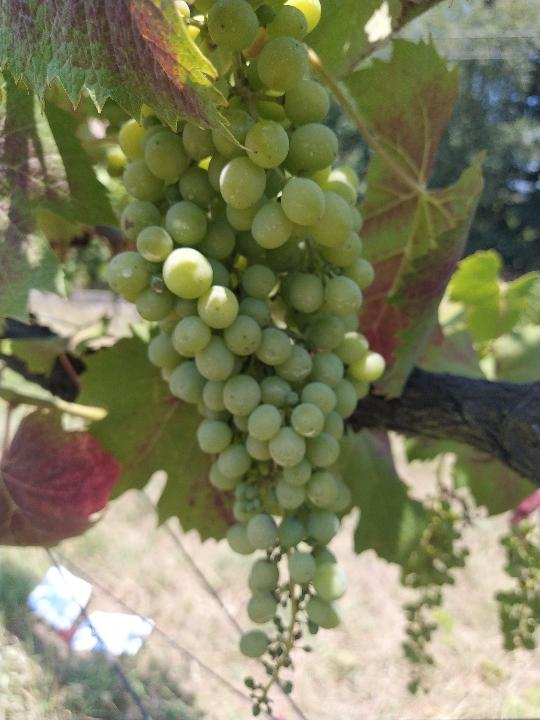grape: (104, 4, 387, 717)
